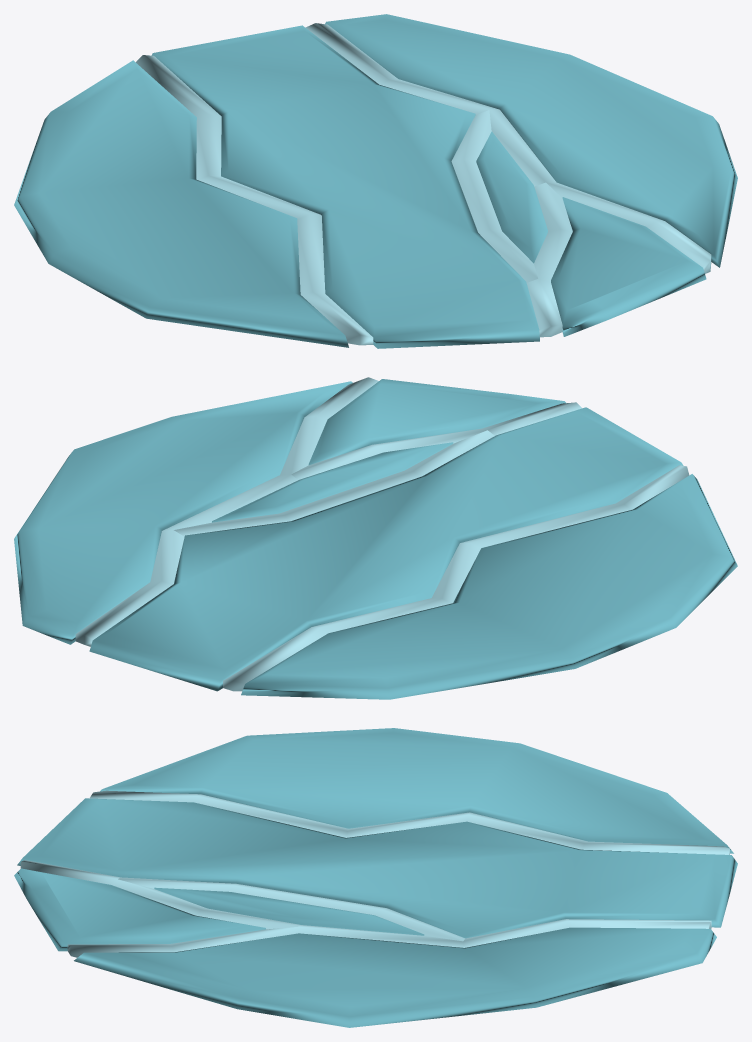
Rendered from Plataforma_casa.glb.
3 views of the same model, one above another, from view 1: azimuth 30°, elevation 25°; view 2: azimuth 150°, elevation 25°; view 3: azimuth 270°, elevation 25° (orthographic). The views are drawn at different scales.
Parts seen in each view (by area): view 1: Pltaforma de la casita; view 2: Pltaforma de la casita; view 3: Pltaforma de la casita.
Boxes of the visible parts, box(x1,y1,x2,y2) form: Pltaforma de la casita: box(14, 14, 737, 348); Pltaforma de la casita: box(14, 377, 737, 699); Pltaforma de la casita: box(14, 728, 737, 1027).
Bounding box in the file's own units: 4.98 × 0.0844 × 5.18.
